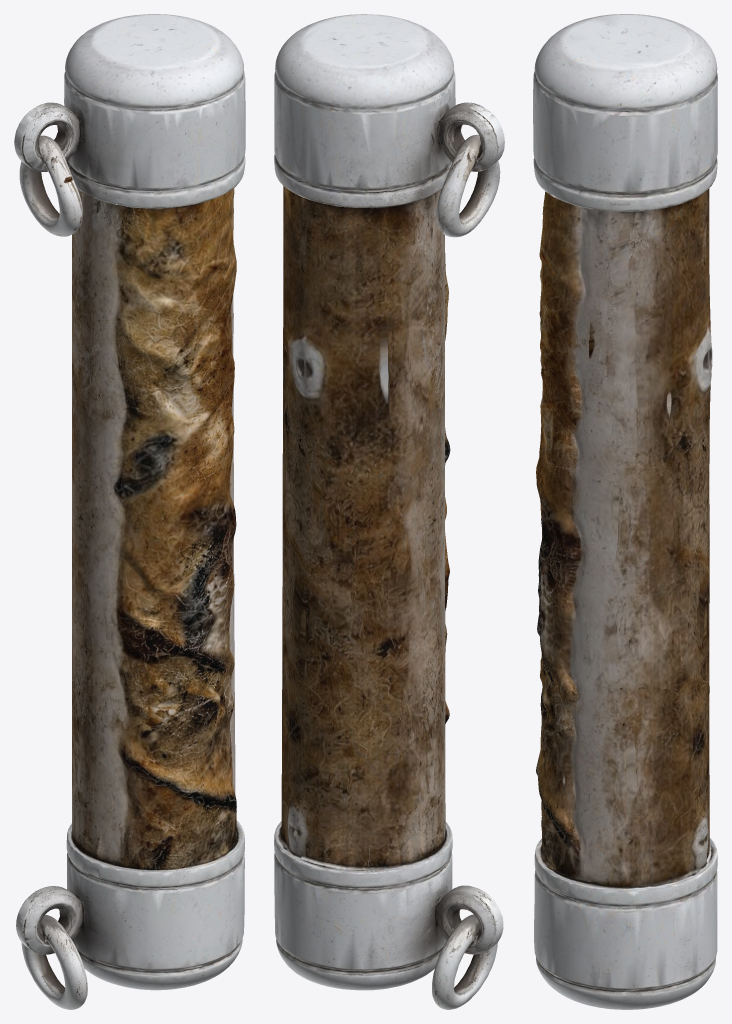
File: e4takrut.glb
3 renders of one model, left to right at view 1: azimuth 30°, elevation 25°; view 2: azimuth 150°, elevation 25°; view 3: azimuth 270°, elevation 25°, orthographic. The views are drawn at different scales.
Bounding box in the file's own units: 0.2398 × 1 × 0.1742.
Materials: 1 (1 with a texture image).
